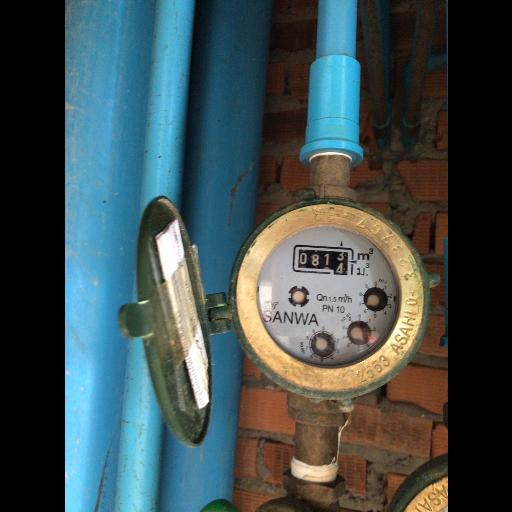0: (296, 249, 310, 269)
1: (319, 251, 333, 270)
3: (332, 251, 348, 276)
8: (309, 249, 321, 269)
border_water_meter_number: (292, 244, 354, 274)
